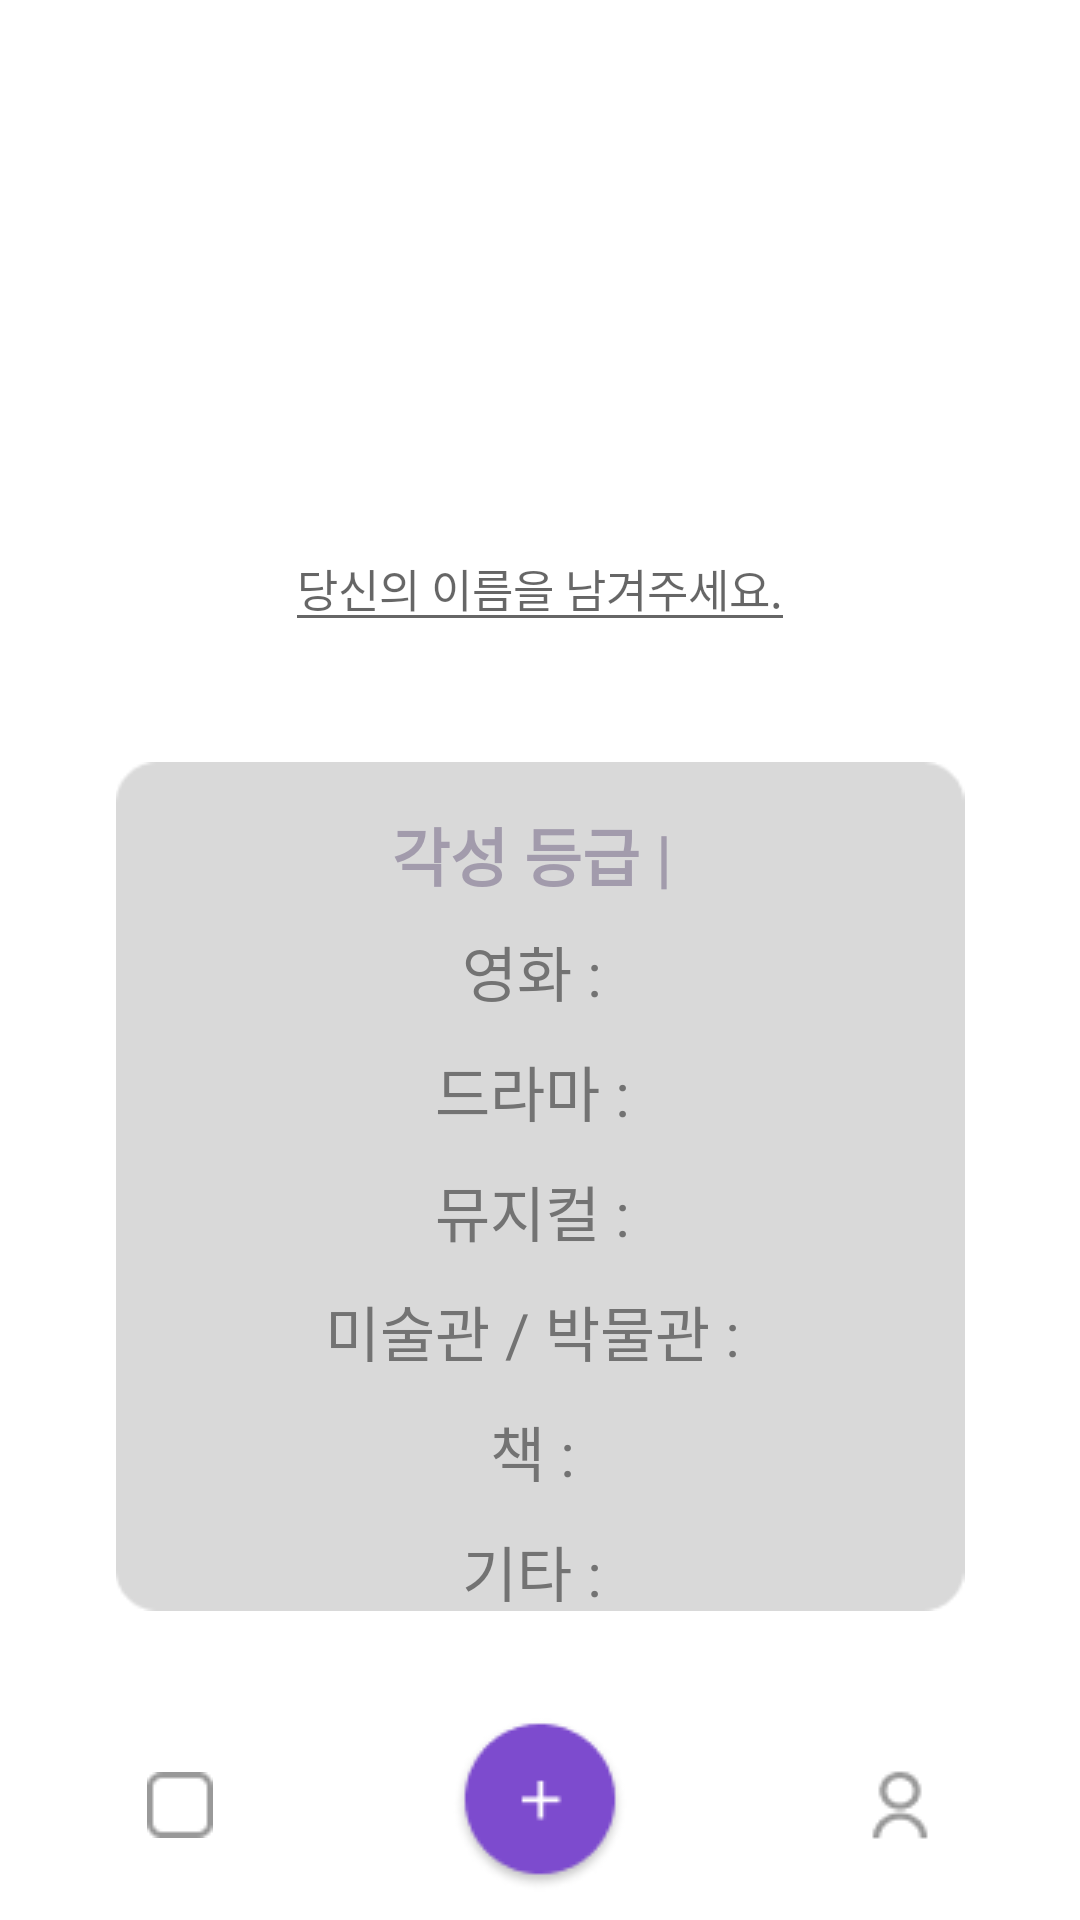

Icons on this 1080px x 1920px Android screen, each with the point to tap as point (x, y):
mypage: point (900, 1805)
plus: point (540, 1802)
